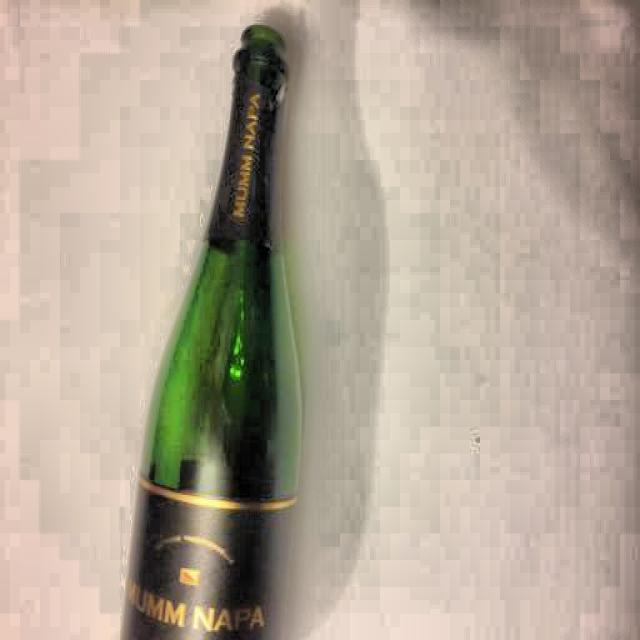glass: (126, 23, 311, 640)
